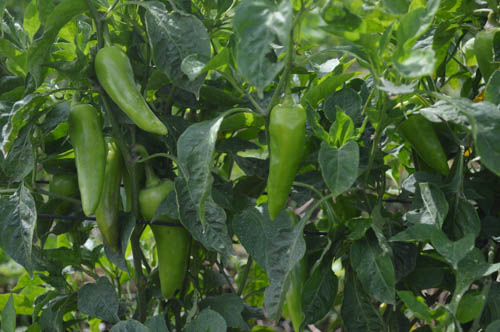ChiliPepper: (96, 45, 168, 133), (141, 182, 188, 296), (67, 109, 103, 220), (265, 105, 299, 217), (406, 118, 447, 175), (96, 146, 119, 246)
